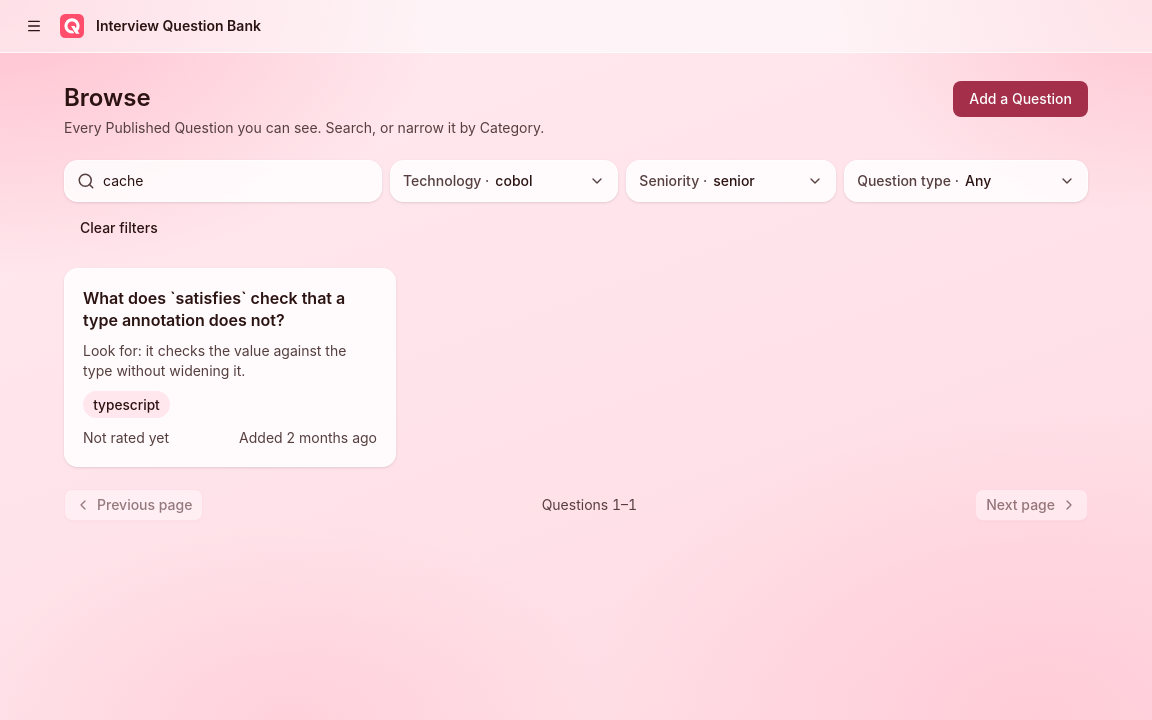
Test case: filtering the bank › clears every Tag and the search at once
The image size is (1152, 720).
Click the button "Clear filters".
click(119, 228)  # box [64, 210, 174, 246]
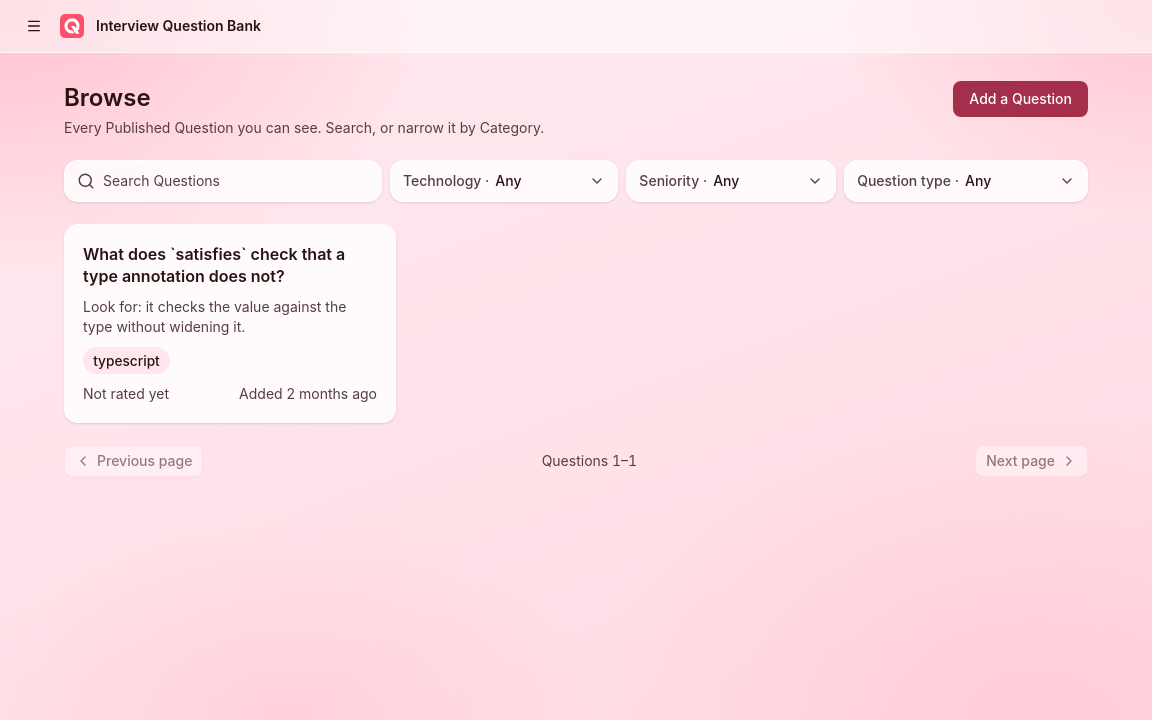
Check: the search field labelled "Search" is empty, box [103, 163, 375, 199]
Check: the button "Clear filters" is gone
